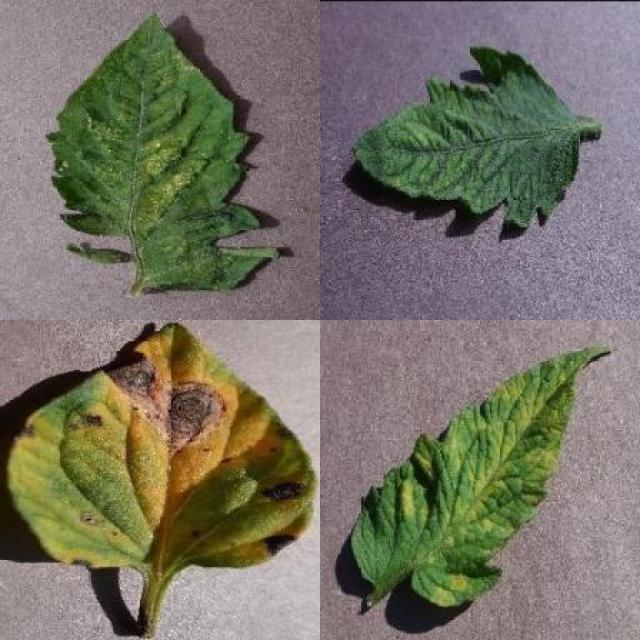Early Blight: (5, 322, 315, 572)
Leaf Mold: (354, 343, 605, 608)
Mosaic Virus: (351, 46, 583, 225)
Spider Mites: (46, 9, 281, 297)
